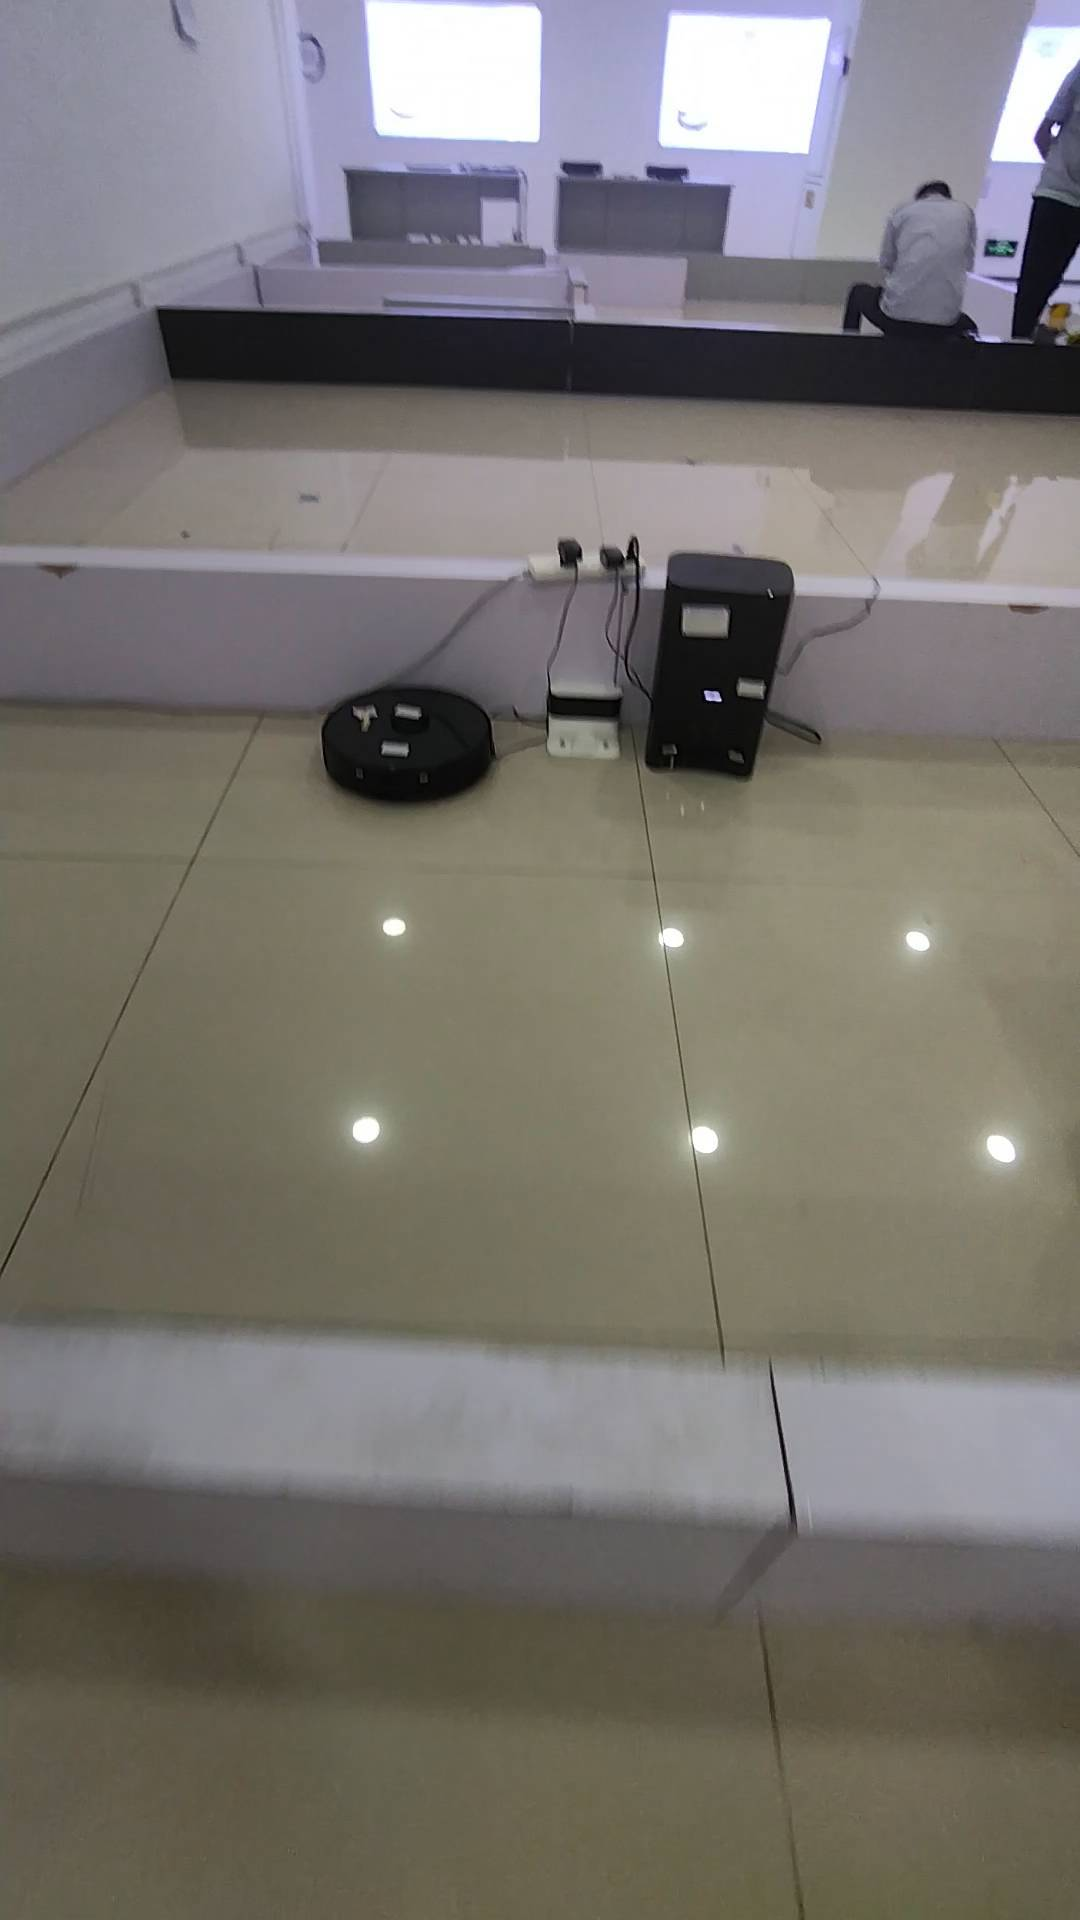dust collecting barrel: (644, 550, 798, 787)
recharge seat: (542, 678, 626, 764)
